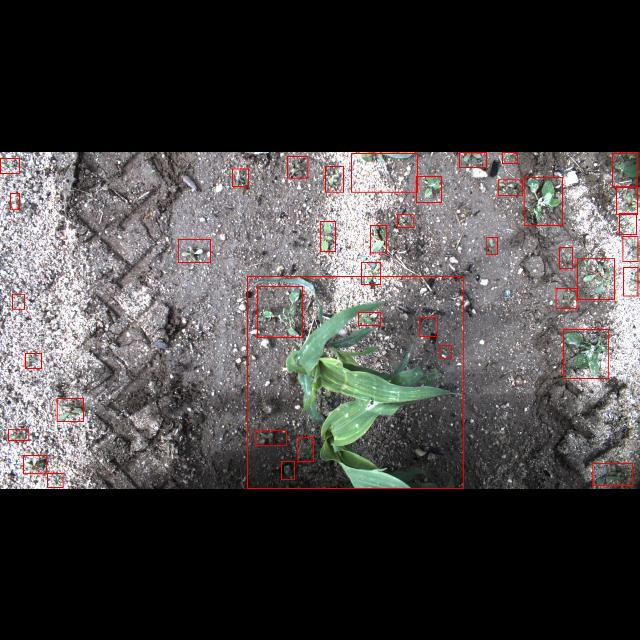crop: (247, 276, 463, 488), (351, 152, 417, 192)
weed: (563, 328, 609, 378), (258, 286, 302, 336), (524, 177, 562, 225), (578, 258, 614, 298), (612, 152, 638, 186), (593, 463, 633, 485), (178, 238, 210, 262), (416, 175, 442, 201), (57, 398, 83, 422), (616, 185, 638, 213), (320, 220, 336, 250), (256, 430, 286, 446), (325, 165, 343, 191), (370, 224, 386, 252), (288, 155, 308, 177), (624, 266, 638, 296), (362, 262, 381, 284), (556, 288, 576, 308), (24, 455, 46, 473), (498, 179, 522, 195), (622, 236, 638, 260), (298, 437, 314, 461), (459, 152, 486, 166), (620, 212, 636, 234), (419, 316, 436, 336), (358, 311, 380, 325), (232, 168, 248, 186), (24, 352, 41, 368), (1, 158, 20, 172), (560, 246, 572, 268), (282, 461, 294, 479), (8, 430, 28, 440), (487, 236, 498, 254), (48, 473, 62, 487), (398, 214, 414, 226), (10, 192, 20, 210), (440, 344, 452, 358), (12, 294, 24, 308), (502, 152, 518, 162)
